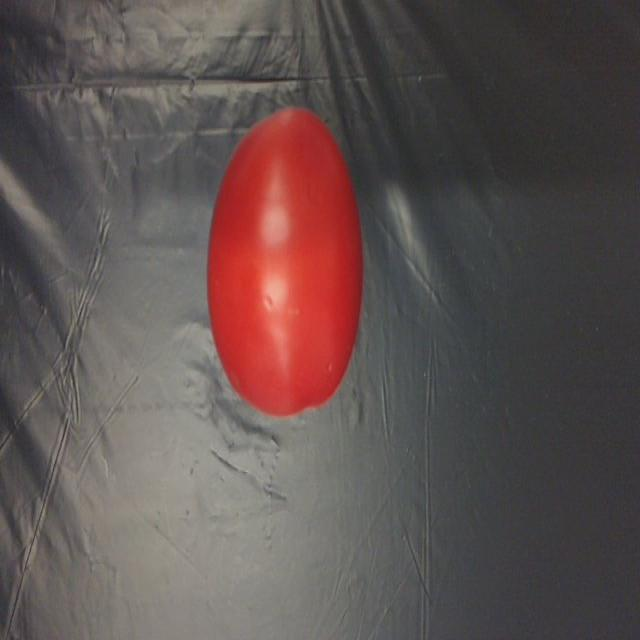kirmizi: (204, 93, 383, 434)
